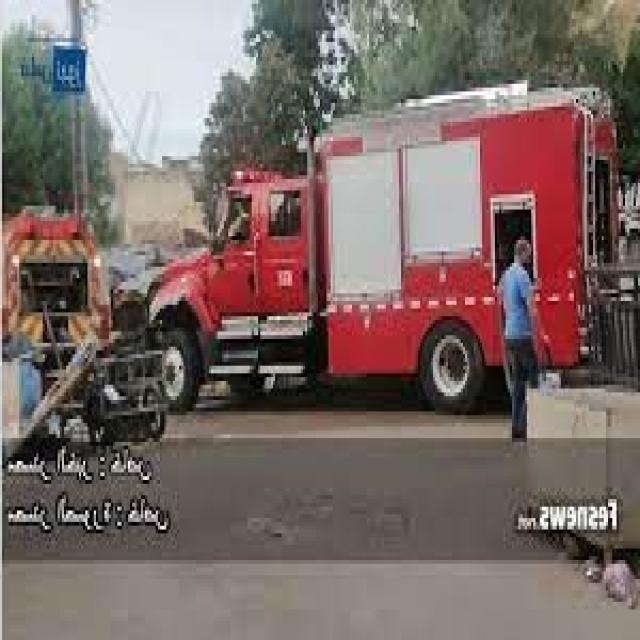emergency: (149, 59, 625, 411)
